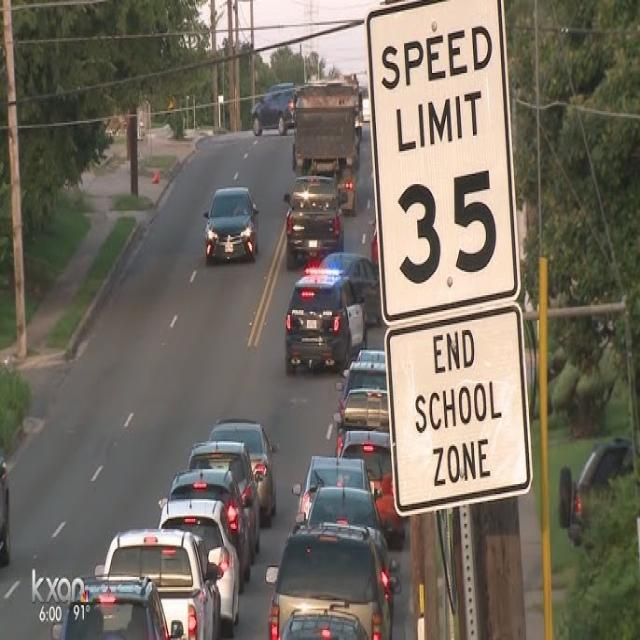Speed Limit Signs: (356, 0, 534, 316)
